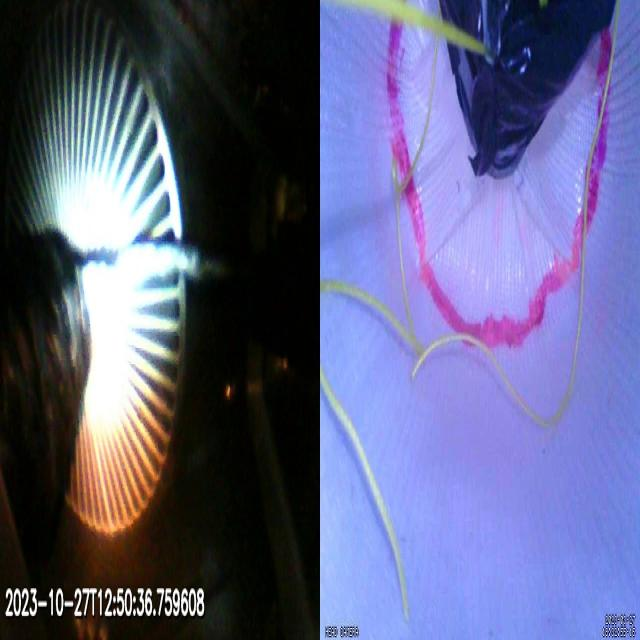red-circle: (385, 22, 615, 349)
